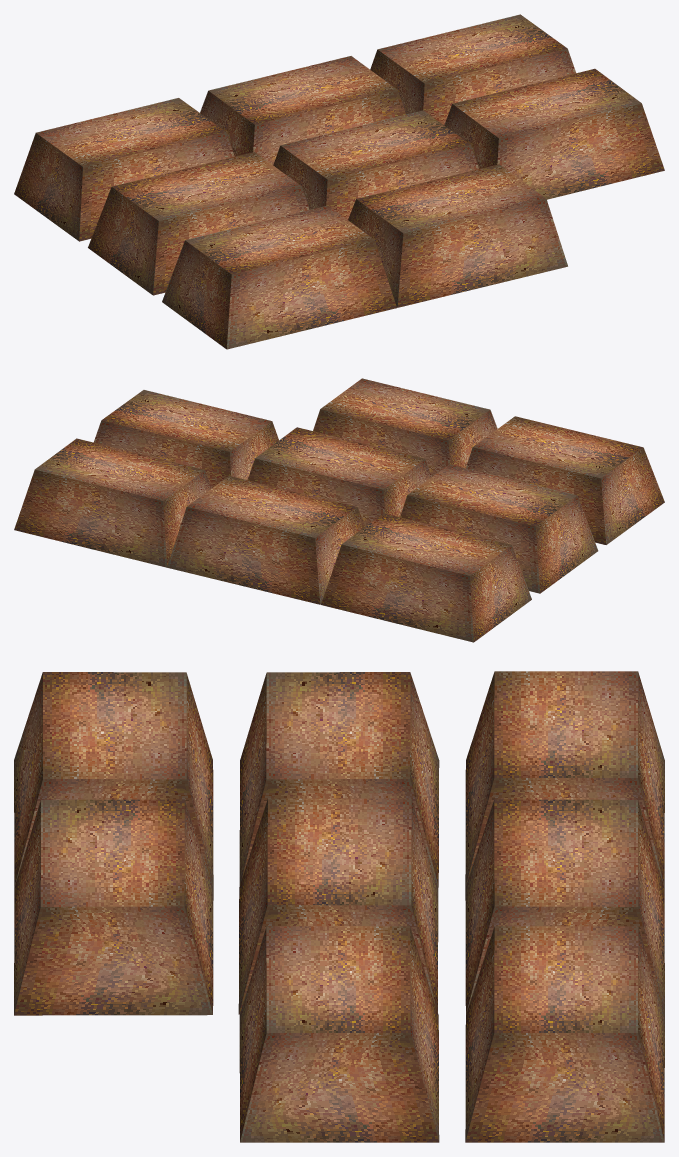
Rendered from iron_8.glb.
3 views of the same model, one above another, from view 1: azimuth 30°, elevation 25°; view 2: azimuth 150°, elevation 25°; view 3: azimuth 270°, elevation 25° (orthographic). The views are drawn at different scales.
Visible parts, largest first — view 1: iron01.001; view 2: iron01.001; view 3: iron01.001.
Part boxes in pixels (x1=…): iron01.001: x1=14, y1=14, x2=664, y2=349; iron01.001: x1=14, y1=378, x2=664, y2=642; iron01.001: x1=14, y1=671, x2=664, y2=1142.
Bounding box in the file's own units: 189 × 22.94 × 136.
Materials: 1 (1 with a texture image).
